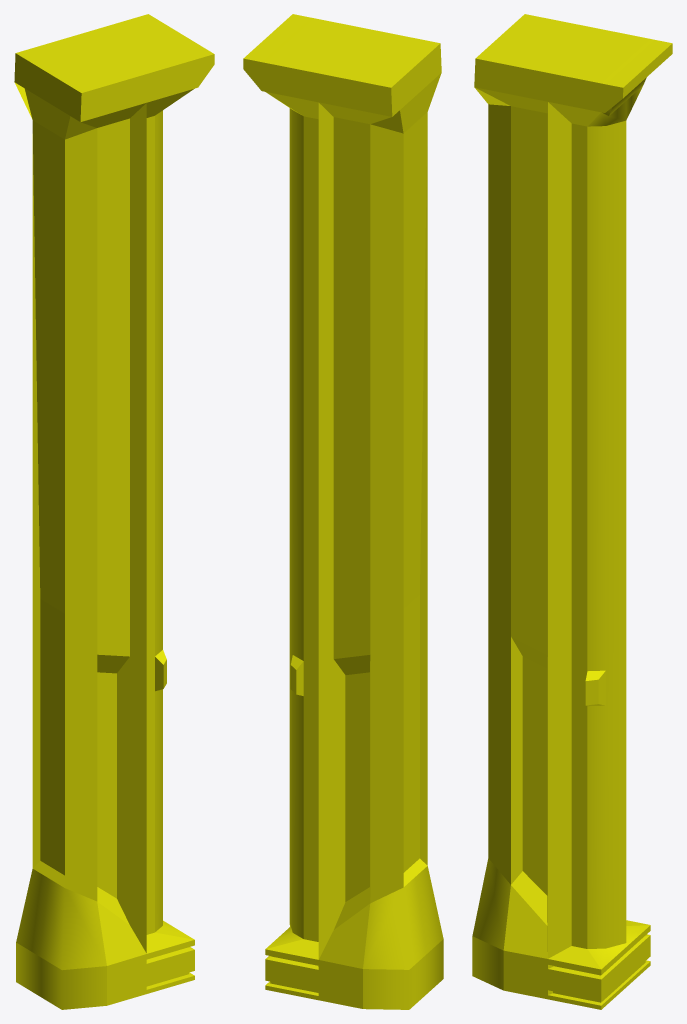
File: Mdl_Vagon_pilar.fbx
3 renders of one model, left to right at view 1: azimuth 30°, elevation 25°; view 2: azimuth 150°, elevation 25°; view 3: azimuth 330°, elevation 25°, orthographic.
Parts seen in each view (by area): view 1: Mdl_Vagon_pilar; view 2: Mdl_Vagon_pilar; view 3: Mdl_Vagon_pilar.
Boxes of the visible parts, left/top/right/bottom form: Mdl_Vagon_pilar: left=14, top=14, right=214, bottom=1009; Mdl_Vagon_pilar: left=243, top=14, right=443, bottom=1009; Mdl_Vagon_pilar: left=472, top=14, right=672, bottom=1009.
Size of the model in its own units: 4.96 by 27.77 by 3.53.
